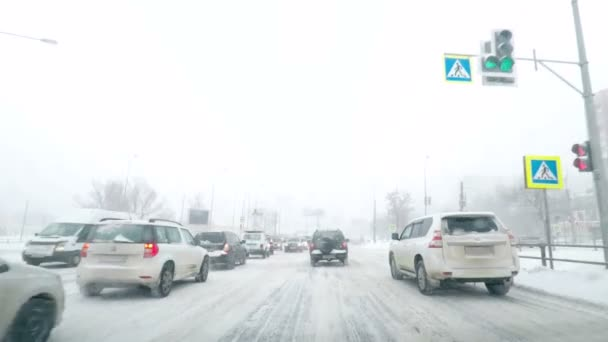car: (388, 213, 521, 299), (76, 218, 209, 300), (198, 229, 250, 271), (309, 228, 350, 267)
traffic light: (480, 28, 517, 83)
